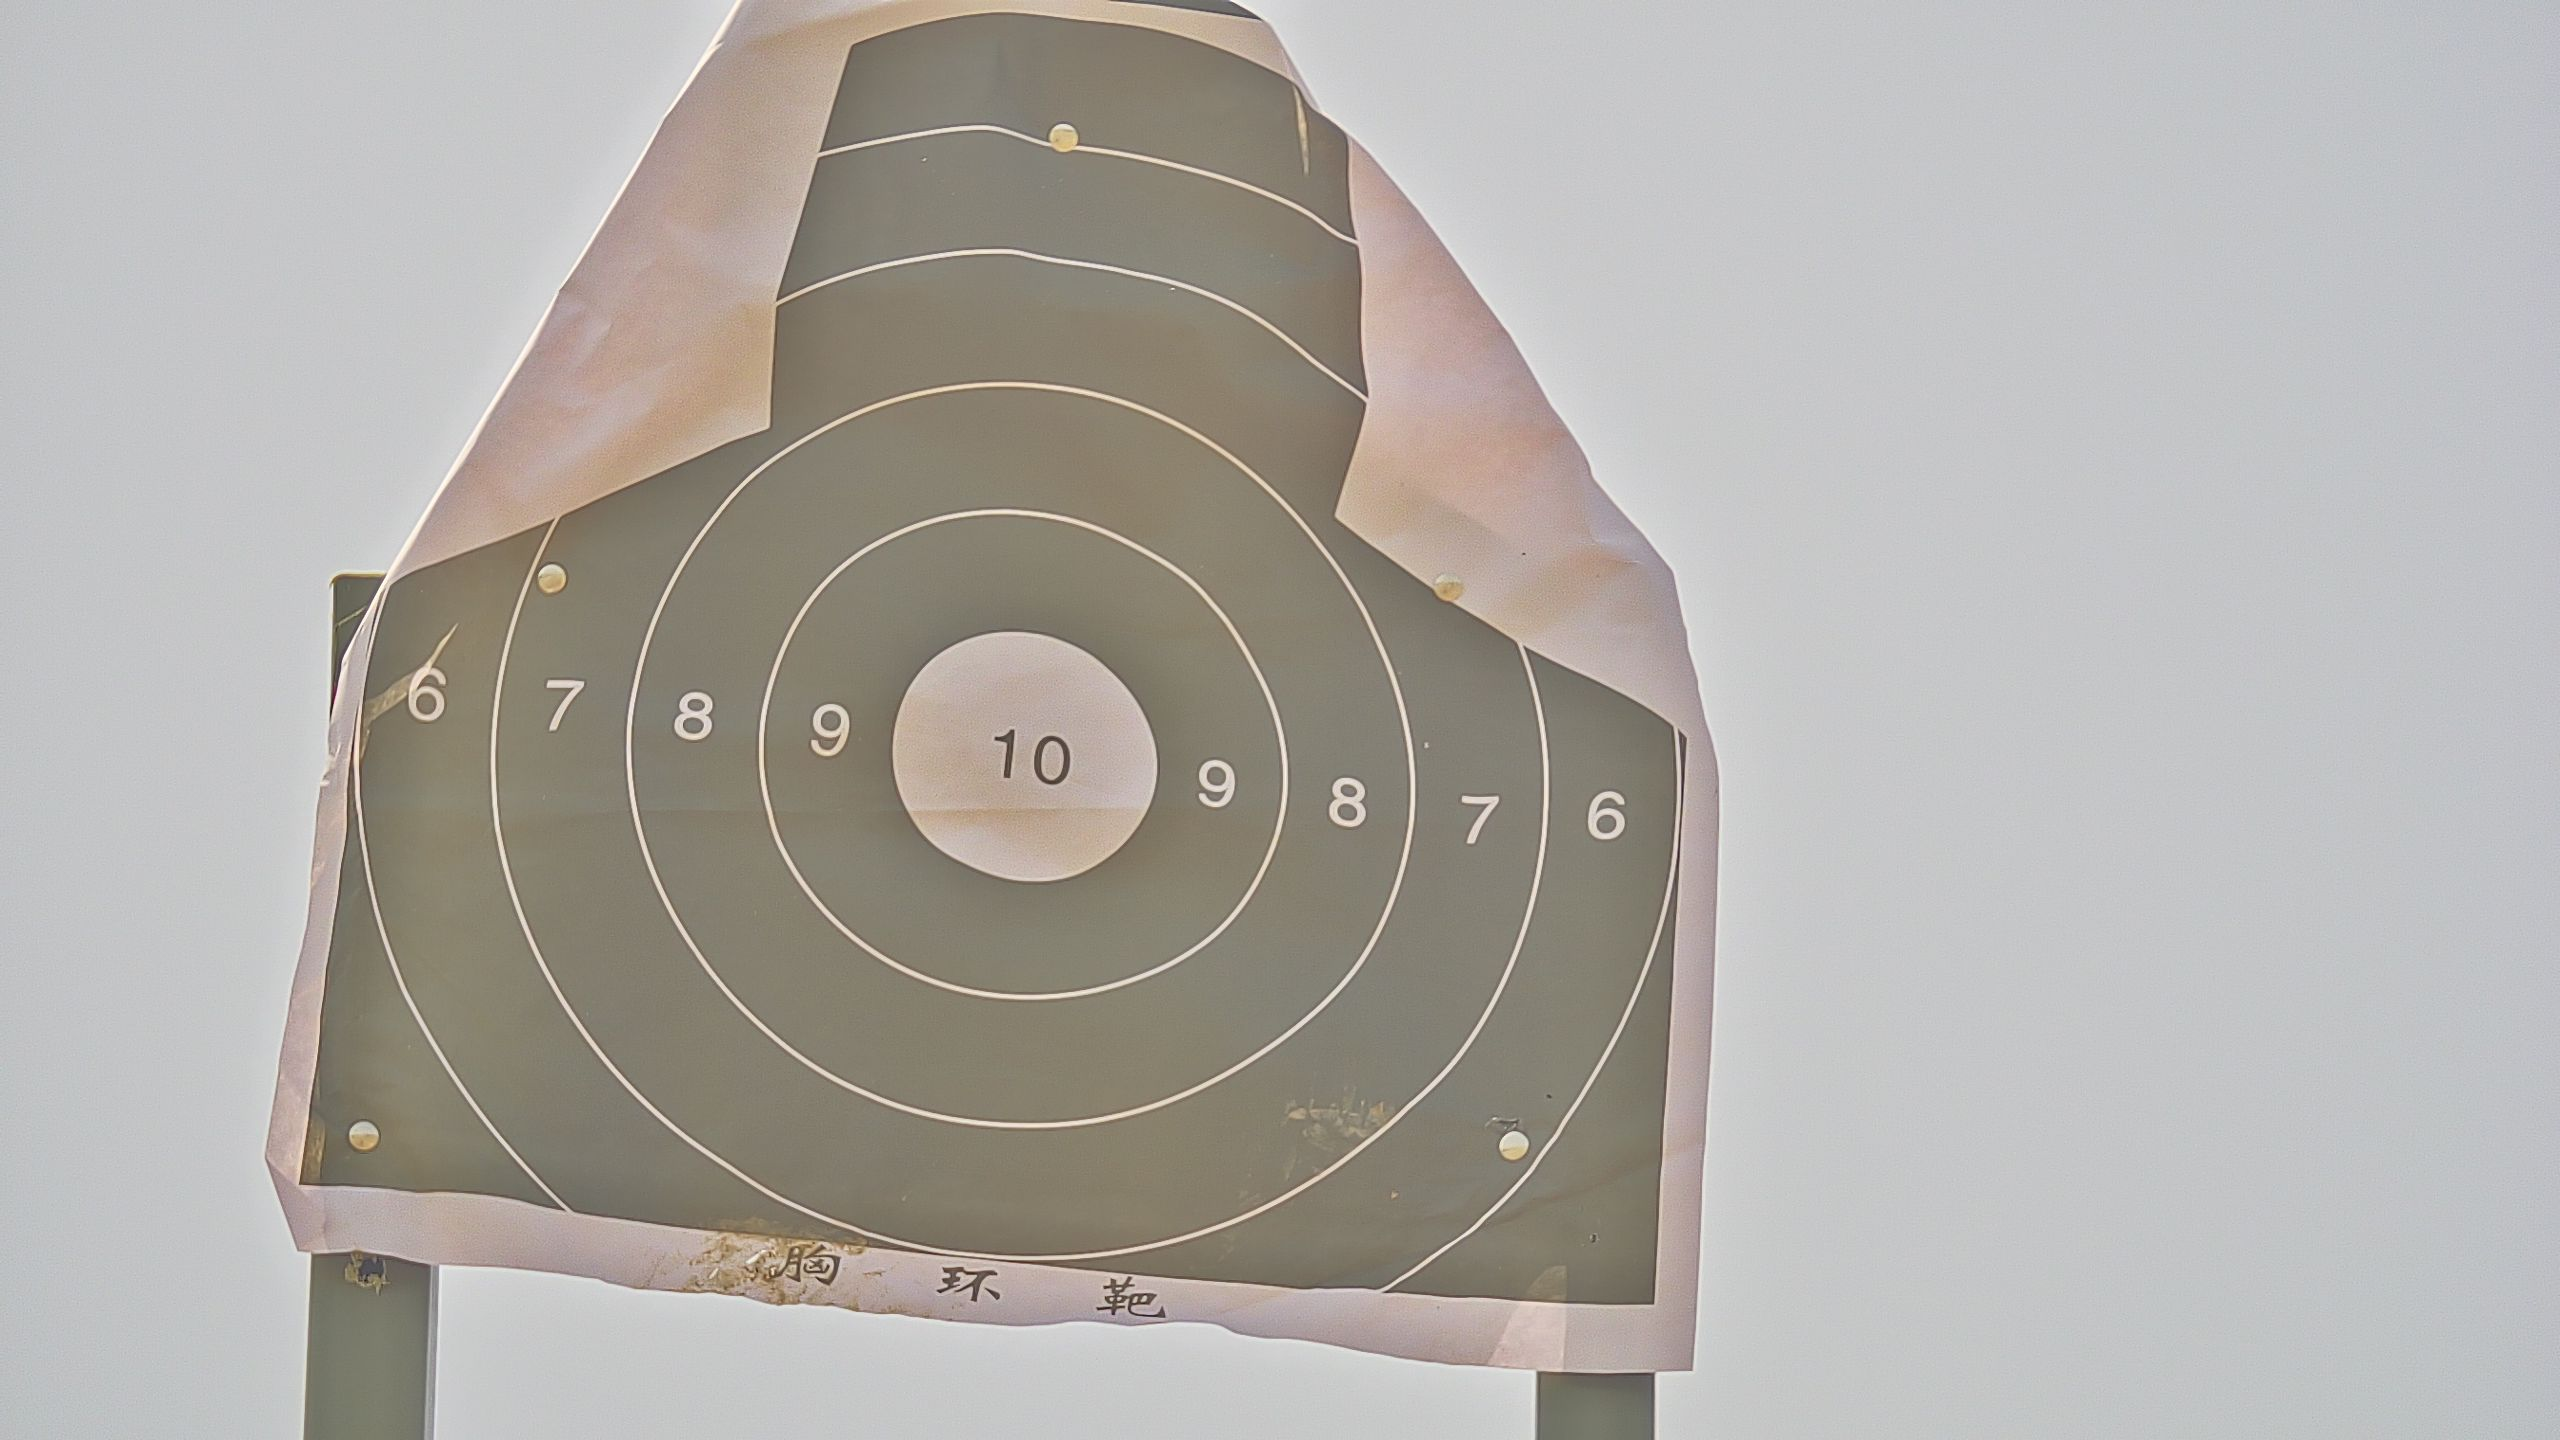kernel: (1020, 751, 1025, 758)
target: (295, 19, 1688, 1315)
ten: (893, 631, 1159, 883)
